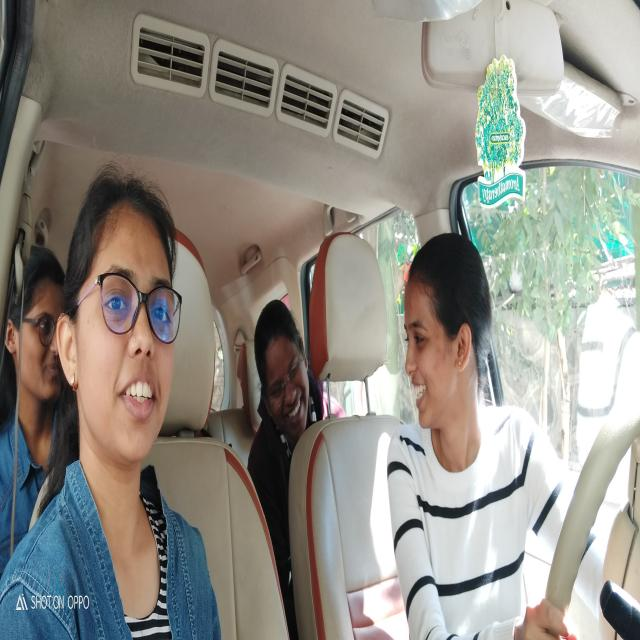LeftRight: (397, 234, 493, 437)
person: (55, 178, 184, 476), (252, 294, 318, 440), (10, 238, 66, 403)
